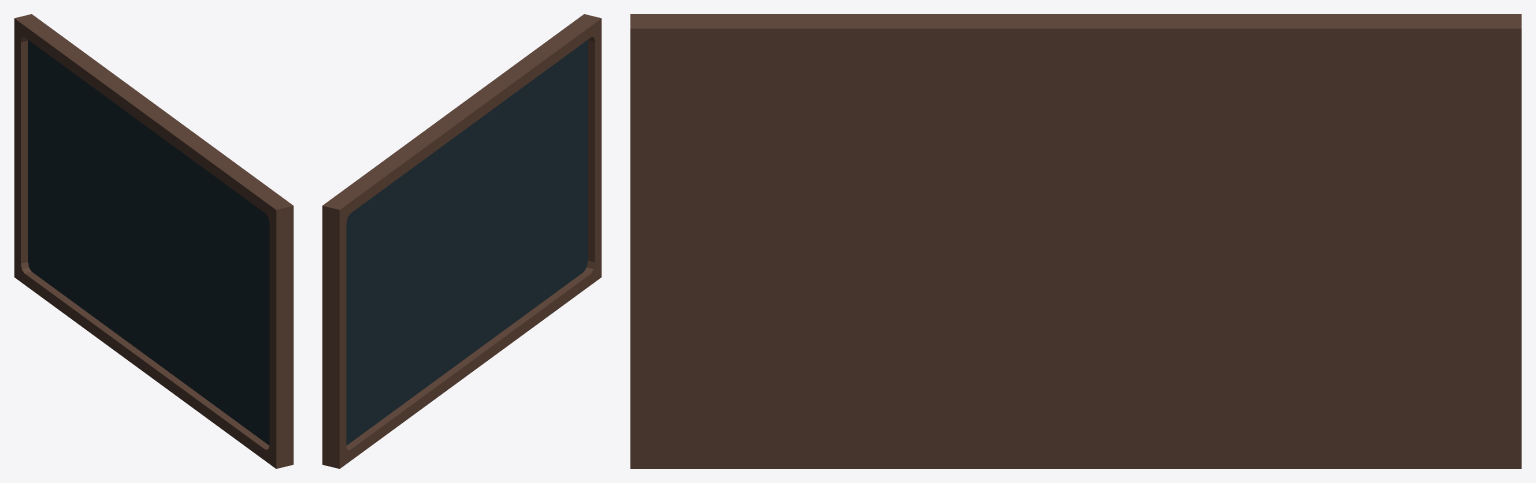
Rendered from Board.fbx.
3 views of the same model, side by side, from view 1: azimuth 30°, elevation 25°; view 2: azimuth 150°, elevation 25°; view 3: azimuth 270°, elevation 25° (orthographic). The views are drawn at different scales.
Visible parts, largest first — view 1: Tableau; view 2: Tableau; view 3: Tableau.
Boxes of the visible parts, left/top/right/bottom form: Tableau: left=14, top=14, right=293, bottom=468; Tableau: left=322, top=14, right=601, bottom=468; Tableau: left=630, top=14, right=1521, bottom=468.
Size of the model in its own units: 8.48 by 120 by 220.
